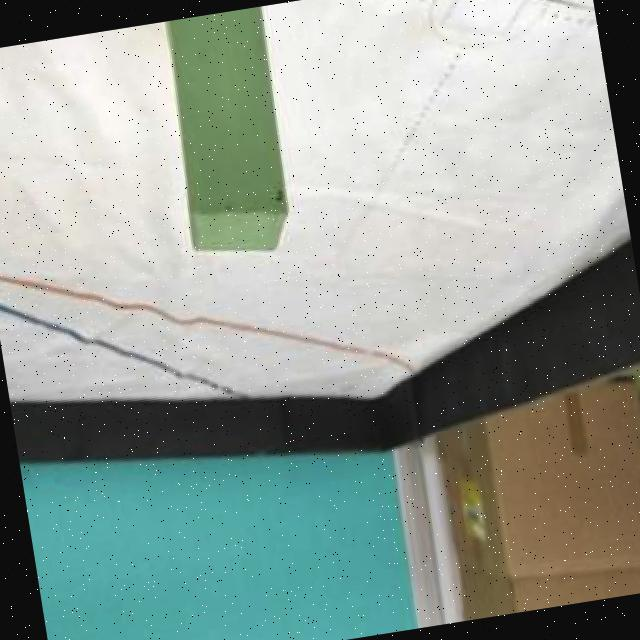greenbox: (156, 6, 298, 267)
